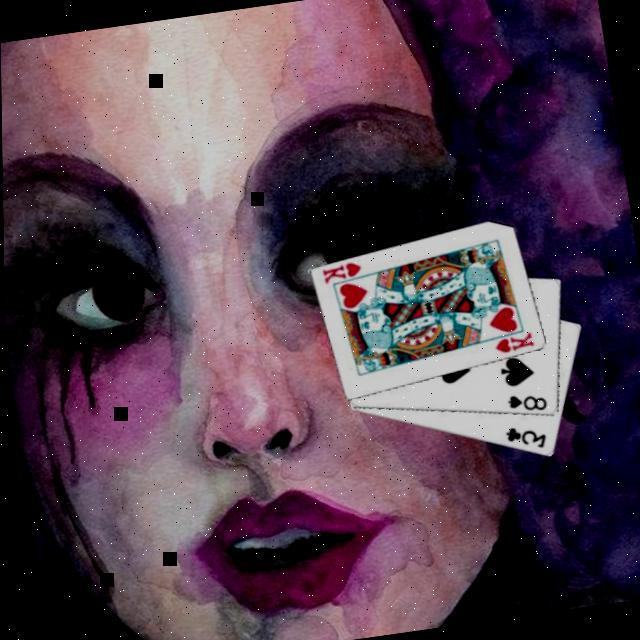3C: (500, 418, 550, 454)
8S: (503, 386, 550, 416)
KH: (490, 327, 538, 356), (319, 257, 366, 285)
